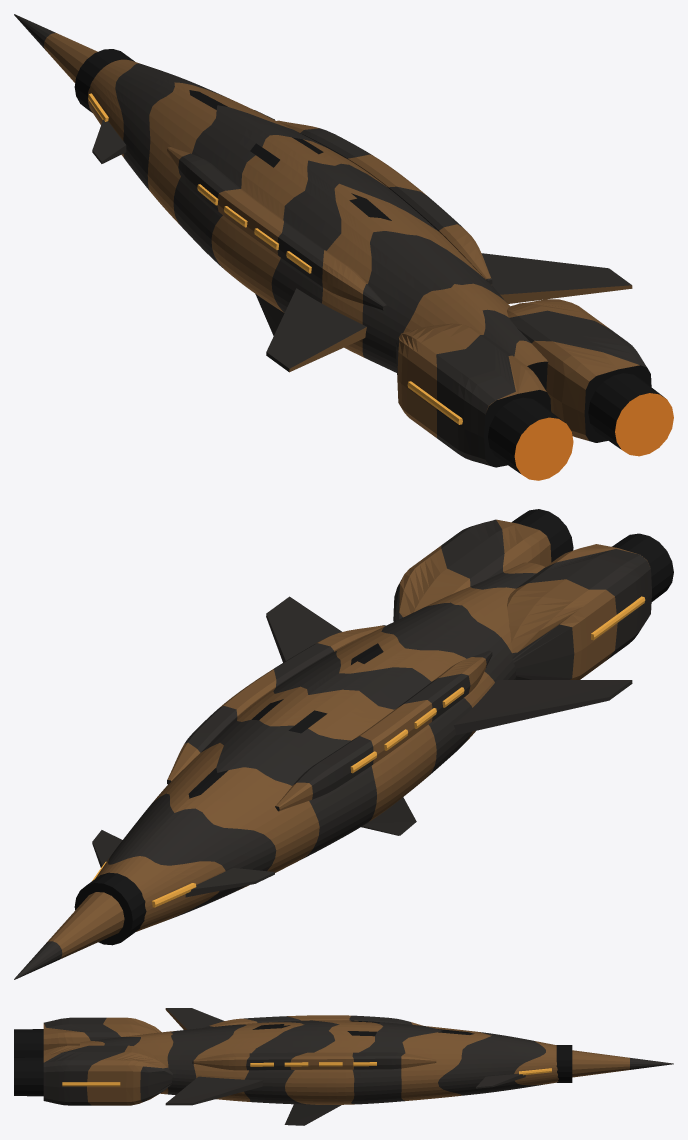
The model's file is destroyer.obj.
The picture shows the model from 3 angles, top to bottom: view 1: azimuth 30°, elevation 25°; view 2: azimuth 150°, elevation 25°; view 3: azimuth 270°, elevation 25°; orthographic projection. The views are drawn at different scales.
Visible parts, largest first — view 1: hull, pod.port, pod.starboard, shoulder.port, nozzle.starboard, nozzle.port, fin.aft.starboard, fin.aft.port, shoulder.starboard, needle, collar, fin.fore.port; view 2: hull, pod.port, pod.starboard, shoulder.port, fin.aft.port, shoulder.starboard, needle, fin.aft.starboard, collar, nozzle.port, nozzle.starboard, fin.fore.port (+1 smaller); view 3: hull, pod.starboard, shoulder.starboard, pod.port, fin.aft.starboard, needle, nozzle.starboard, shoulder.port, nozzle.port, fin.aft.port, fin.keel.starboard, collar (+2 smaller).
Part boxes in pixels (x1,y1,x2,y2): hull: (88, 59, 548, 390); pod.port: (396, 323, 551, 467); pod.starboard: (507, 299, 651, 442); shoulder.port: (167, 147, 387, 310); nozzle.starboard: (588, 373, 673, 456); nozzle.port: (488, 397, 573, 480); fin.aft.starboard: (481, 253, 632, 303); fin.aft.port: (266, 288, 366, 372); shoulder.starboard: (277, 120, 492, 284); needle: (14, 14, 97, 82); collar: (74, 49, 134, 112); fin.fore.port: (92, 119, 126, 163); hull: (95, 562, 544, 931); pod.port: (507, 544, 651, 679); pod.starboard: (393, 519, 551, 621); shoulder.port: (275, 650, 492, 811); fin.aft.port: (453, 680, 632, 735); shoulder.starboard: (167, 625, 385, 784); needle: (14, 892, 124, 979); fin.aft.starboard: (266, 596, 341, 662); collar: (74, 872, 146, 945); nozzle.port: (612, 533, 673, 601); nozzle.starboard: (512, 509, 573, 562); fin.fore.port: (185, 868, 274, 897); hull: (80, 1020, 558, 1104); pod.starboard: (43, 1045, 172, 1105); shoulder.starboard: (192, 1052, 436, 1070); pod.port: (43, 1017, 161, 1050); fin.aft.starboard: (165, 1076, 263, 1105); needle: (572, 1050, 673, 1077); nozzle.starboard: (14, 1057, 43, 1096); shoulder.port: (203, 1015, 423, 1027); nozzle.port: (14, 1029, 43, 1057); fin.aft.port: (165, 1008, 224, 1029); fin.keel.starboard: (284, 1104, 341, 1125); collar: (556, 1045, 572, 1082).
Size of the model in its own units: 0.3418 by 0.1418 by 1.
